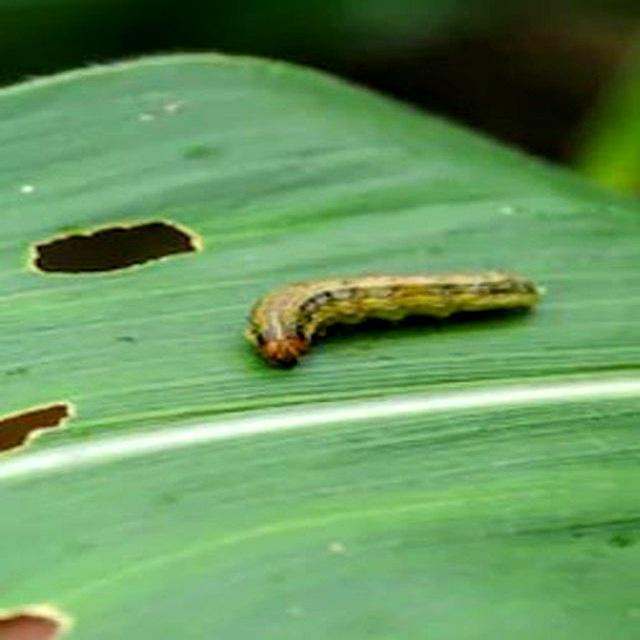pest: (228, 274, 558, 351)
